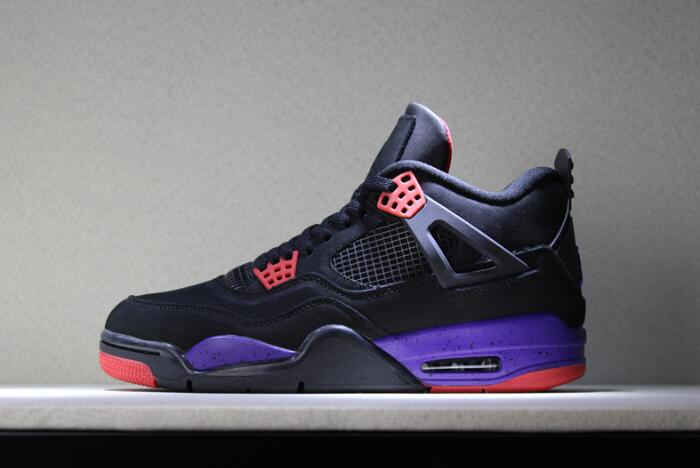Air Jordan 4 Raptors: (68, 83, 597, 393)
